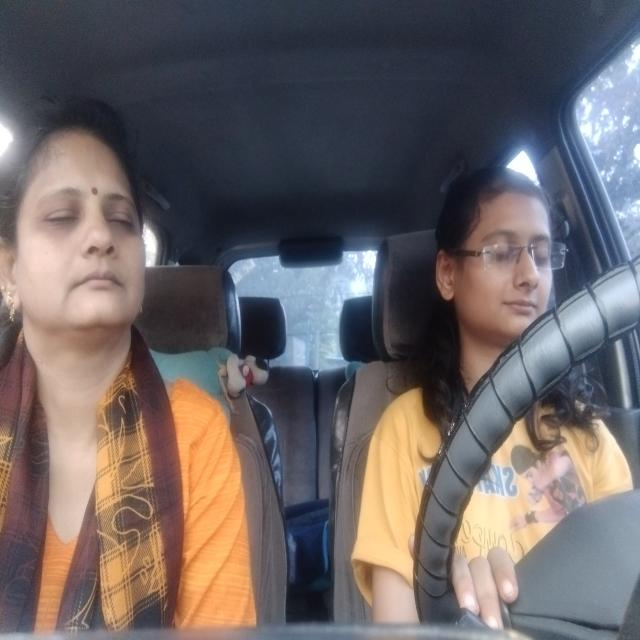drowsy: (431, 161, 559, 348)
person: (0, 102, 165, 357)
